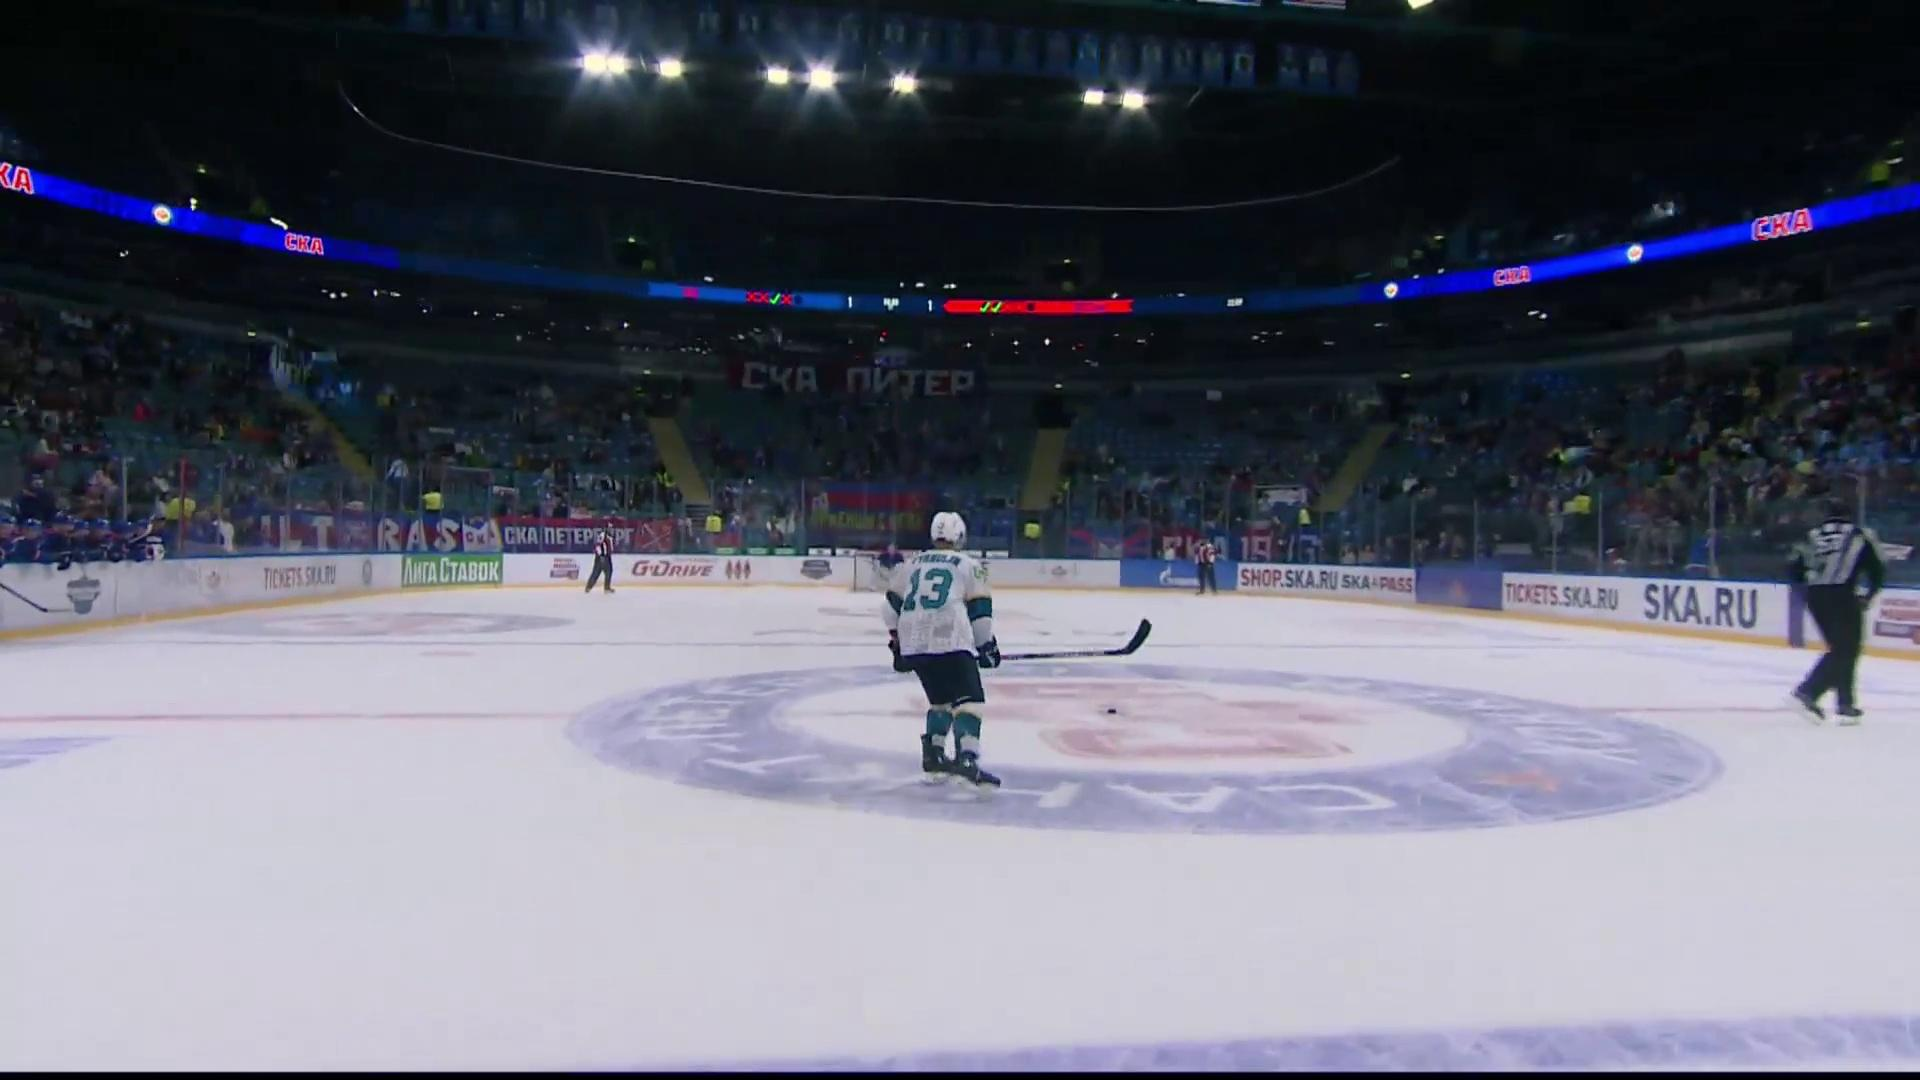ball: (1106, 708, 1117, 715)
